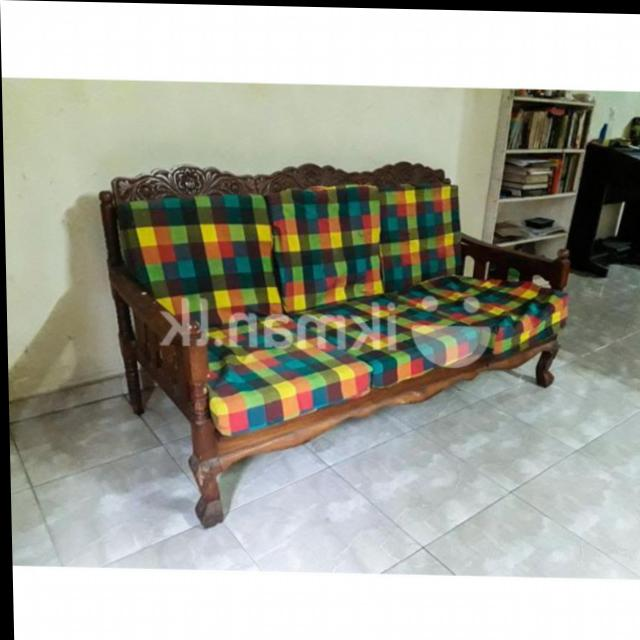Sofa: (94, 153, 576, 532)
